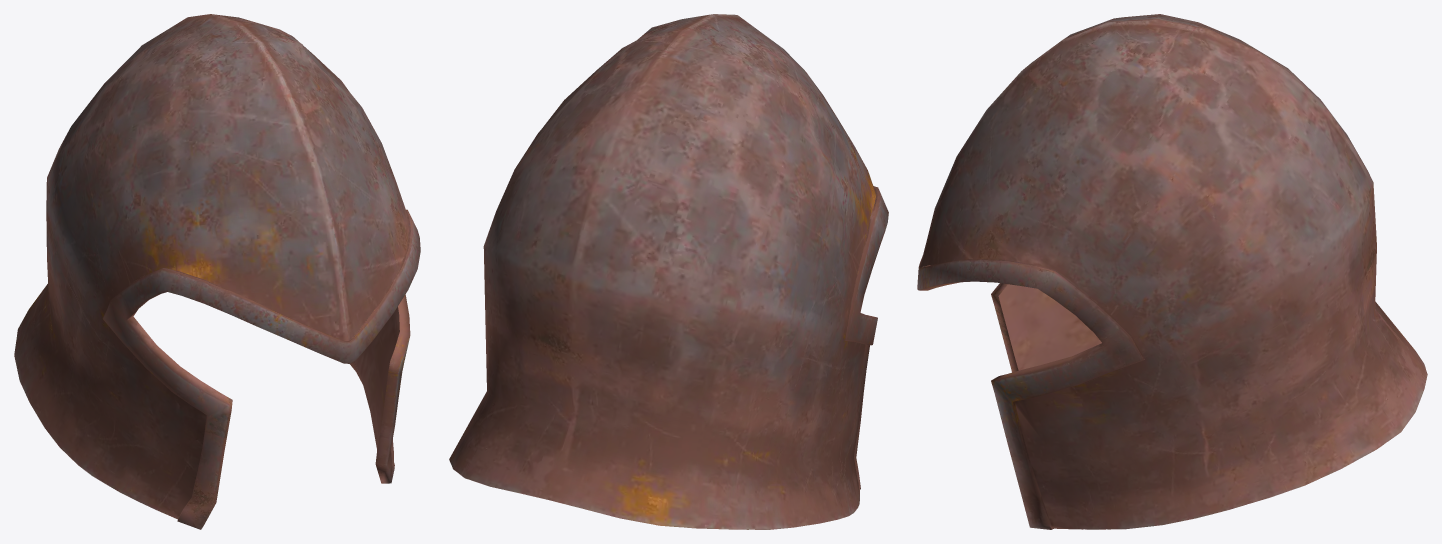
3 views of the same model, side by side, from view 1: azimuth 30°, elevation 25°; view 2: azimuth 150°, elevation 25°; view 3: azimuth 270°, elevation 25° (orthographic). The views are drawn at different scales.
Parts seen in each view (by area): view 1: SM_PropHelmet_LOD0; view 2: SM_PropHelmet_LOD0; view 3: SM_PropHelmet_LOD0.
Boxes of the visible parts, x1,y1,x2,y2 form: SM_PropHelmet_LOD0: (14,14,420,529); SM_PropHelmet_LOD0: (449,14,888,529); SM_PropHelmet_LOD0: (917,14,1427,529).
Size of the model in its own units: 0.2242 by 0.3009 by 0.3024.
Materials: 1 (1 with a texture image).
